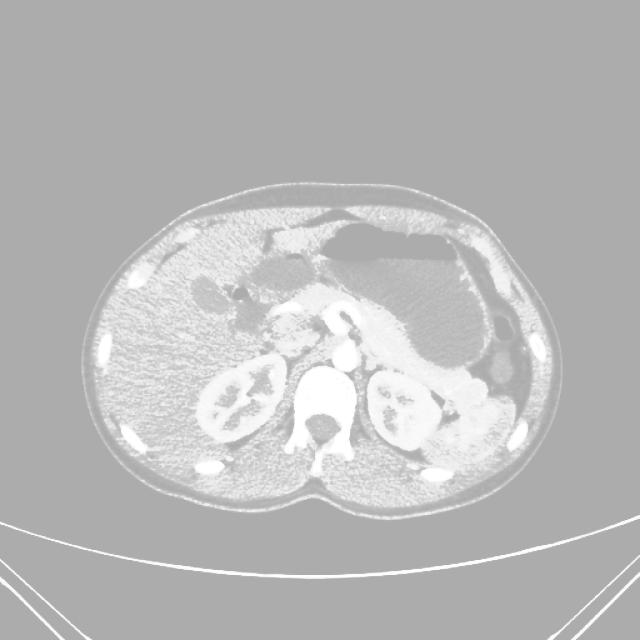NORMAL: (54, 148, 574, 558)
